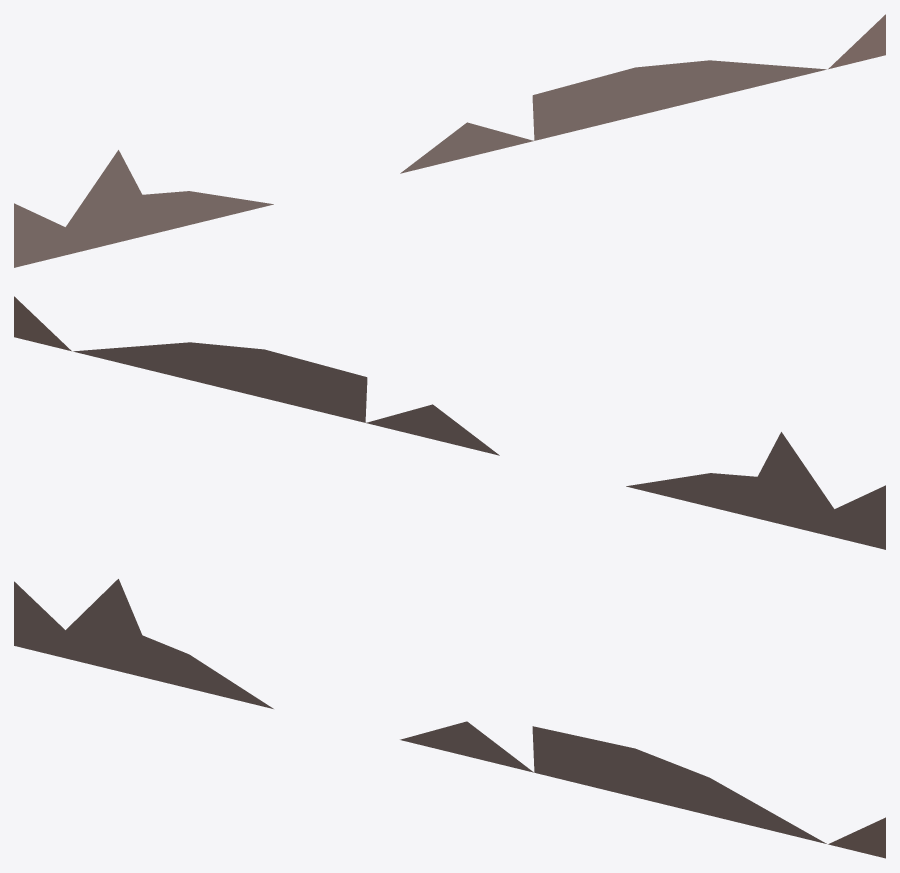
The model's file is g_t_GarageWallRusty2.fbx.
The picture shows the model from 3 angles, top to bottom: view 1: azimuth 30°, elevation 25°; view 2: azimuth 150°, elevation 25°; view 3: azimuth 330°, elevation 25°; orthographic projection.
Parts seen in each view (by area): view 1: g_t_TiledWallr; view 2: g_t_TiledWallr; view 3: g_t_TiledWallr.
Boxes of the visible parts, x1,y1,x2,y2 form: g_t_TiledWallr: (14, 14, 885, 267); g_t_TiledWallr: (14, 296, 885, 549); g_t_TiledWallr: (14, 579, 885, 858).
Bounding box in the file's own units: 0.8182 × 0.0833 × 4.47e-08.
